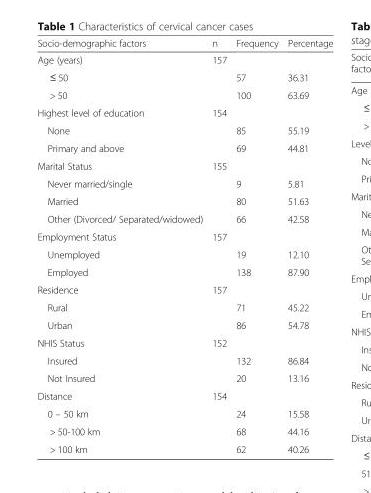table: (36, 37, 332, 454)
table column: (36, 37, 206, 454), (230, 37, 282, 454), (282, 37, 332, 454), (206, 37, 230, 454)
table column header: (36, 37, 332, 51)
table row: (36, 85, 332, 103), (36, 103, 332, 121), (36, 121, 332, 139), (36, 156, 332, 174), (36, 174, 332, 192), (36, 209, 332, 227), (36, 227, 332, 245), (36, 262, 332, 280), (36, 280, 332, 298), (36, 298, 332, 316), (36, 333, 332, 351), (36, 351, 332, 369), (36, 386, 332, 404), (36, 404, 332, 422), (36, 51, 332, 68), (36, 68, 332, 85), (36, 139, 332, 156), (36, 192, 332, 209), (36, 245, 332, 262), (36, 316, 332, 333), (36, 369, 332, 386), (36, 422, 332, 439), (36, 439, 332, 454), (36, 37, 332, 51)
